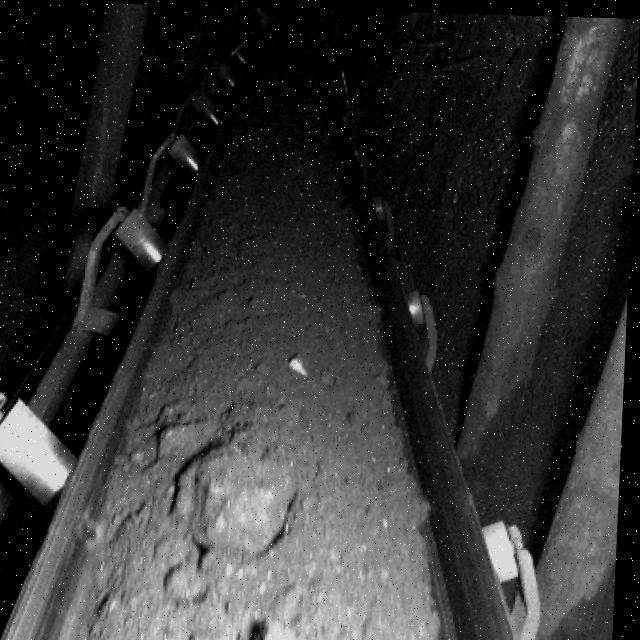large_sized_coal: (173, 447, 303, 554), (255, 608, 317, 640)
